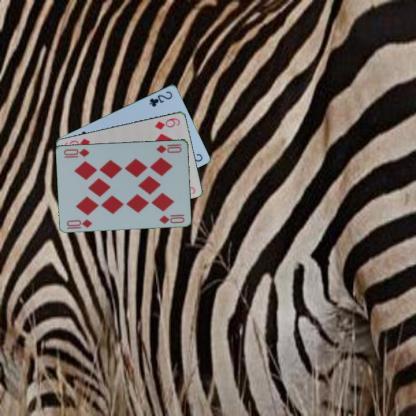10d: (64, 217, 94, 230), (154, 142, 183, 154)
2c: (147, 88, 173, 107)
6d: (152, 115, 181, 131)
